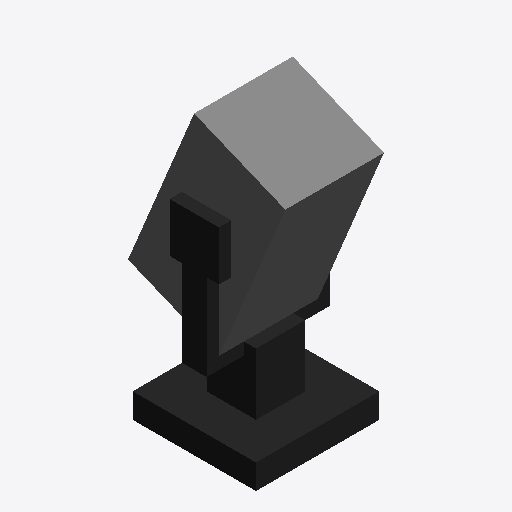
Isometric view (azimuth 45°, elevation 35.3°) of a Minecraft model made of 9 cuboids, textured from the same repository.
Parts seen in each view (by area): element 3, element 1, element 2, element 6, element 4.
Part boxes in pixels (x1,y1,x2,y2): element 3: (128,57,383,355); element 1: (133,349,378,490); element 2: (207,313,304,419); element 6: (170,192,230,283); element 4: (182,263,218,376).
Size of the model in its own units: 2.5 by 5.75 by 3.19.